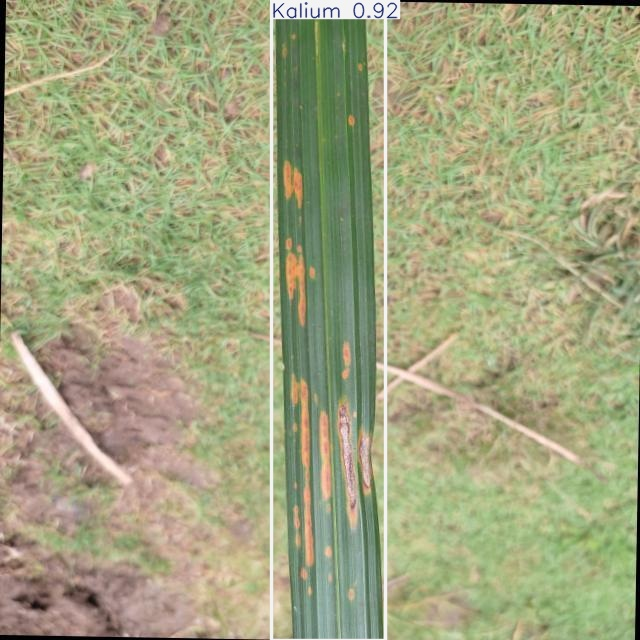Kalium: (271, 0, 385, 640)
